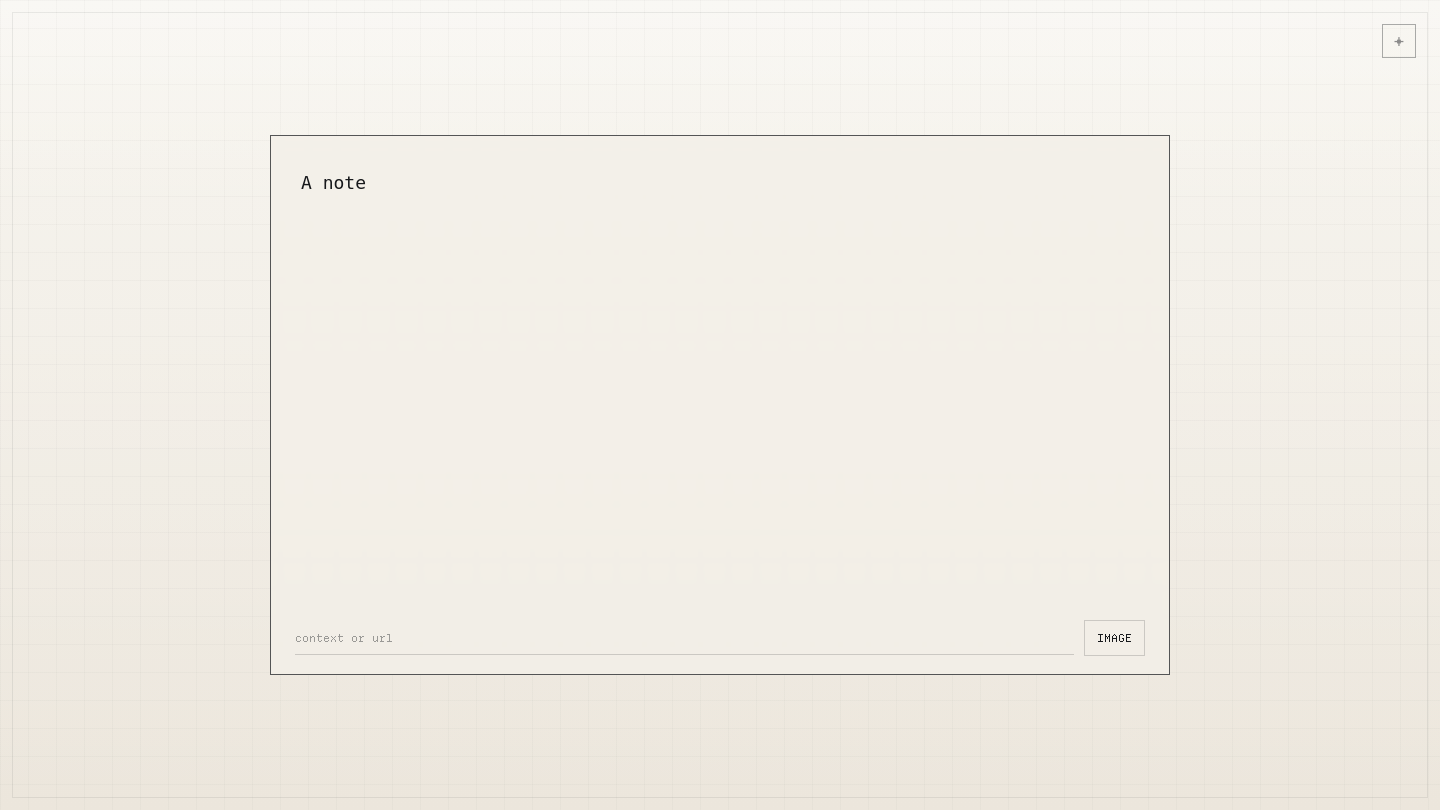
it: draft supports text, url, and image capture contexts
In the field named "Context input": (684, 638) [295,621,1074,655], type "crypto 2nd homework"
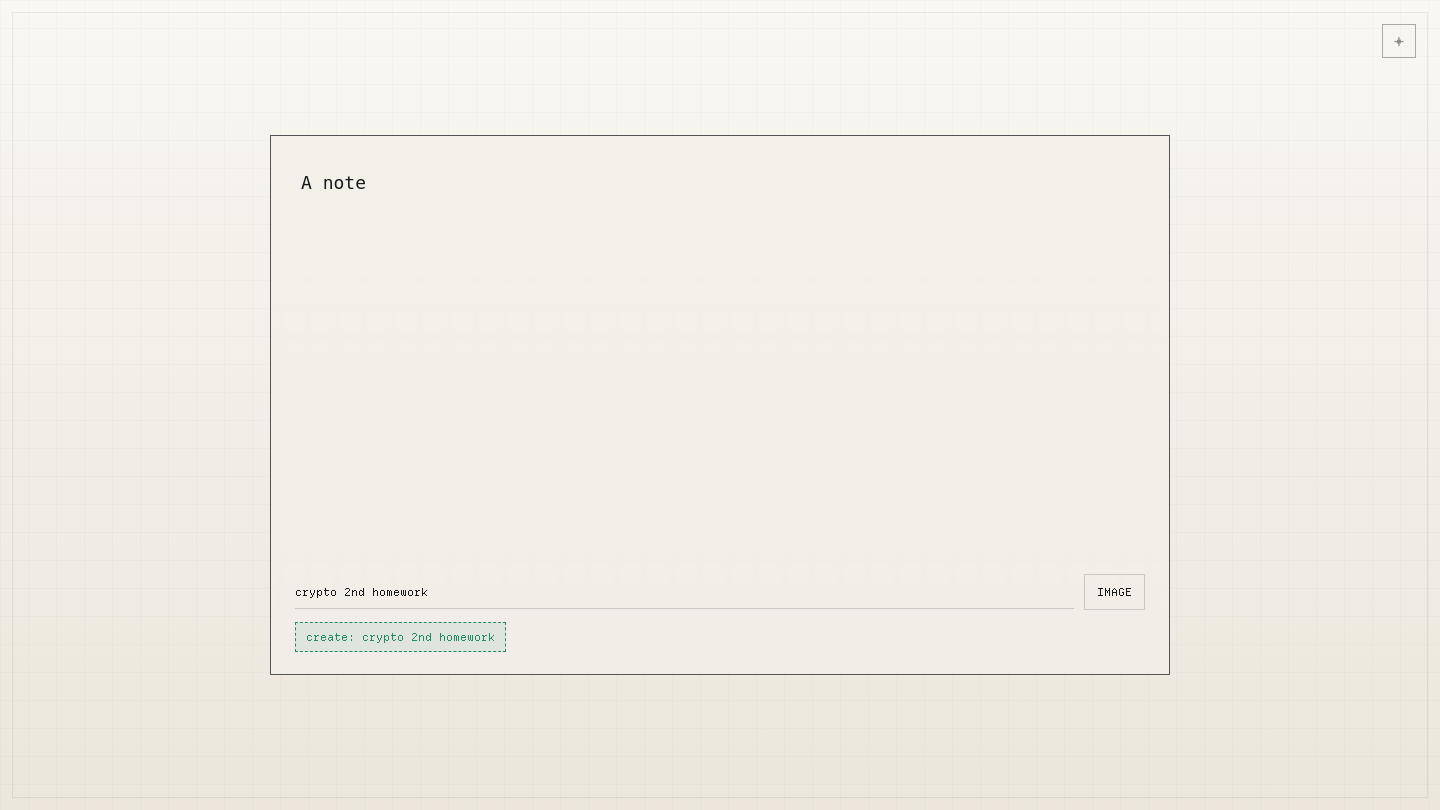
Press Enter in the field named "Context input", box [295,575,1074,609]
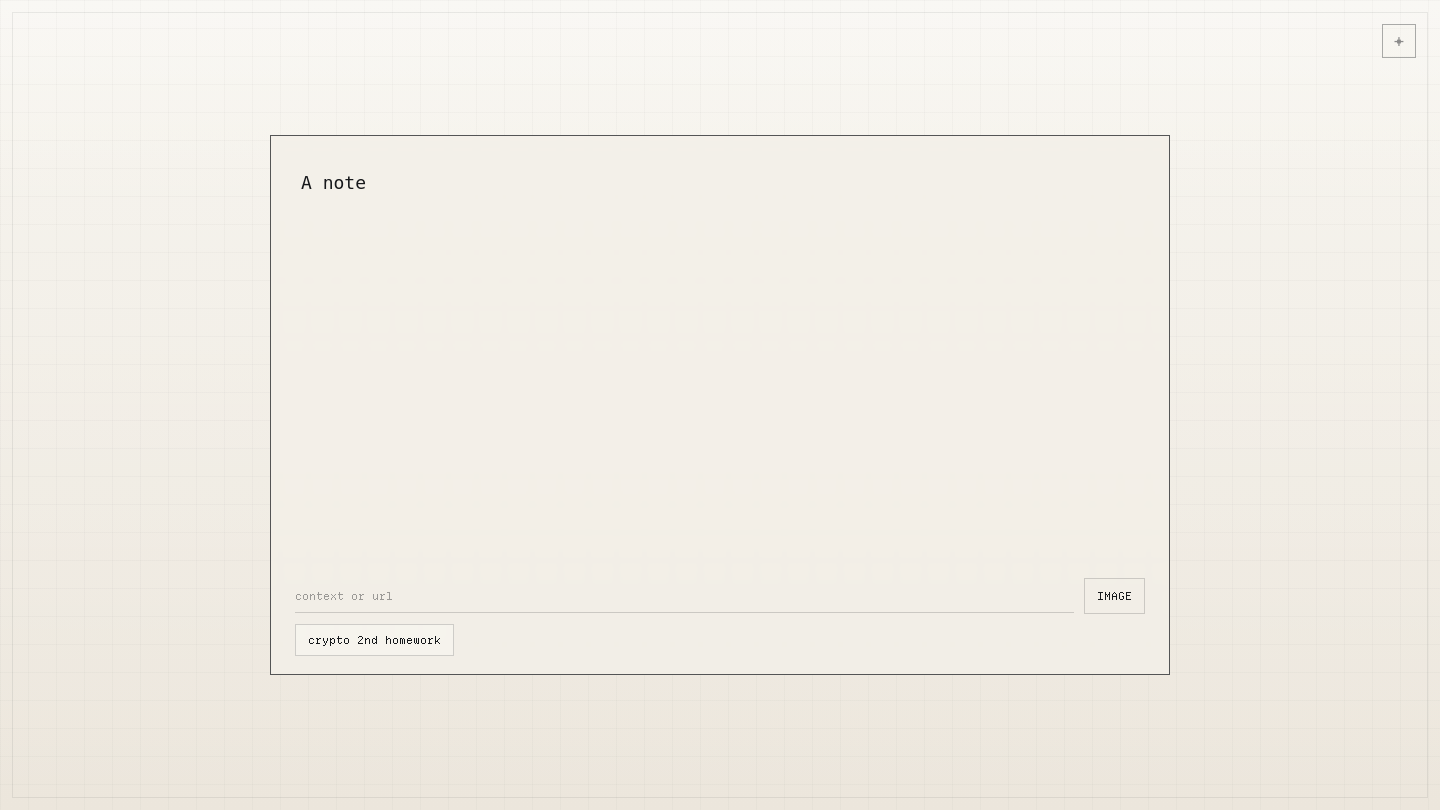
In the field named "Context input": (684, 596) [295,579,1074,613], type "https://example.com"
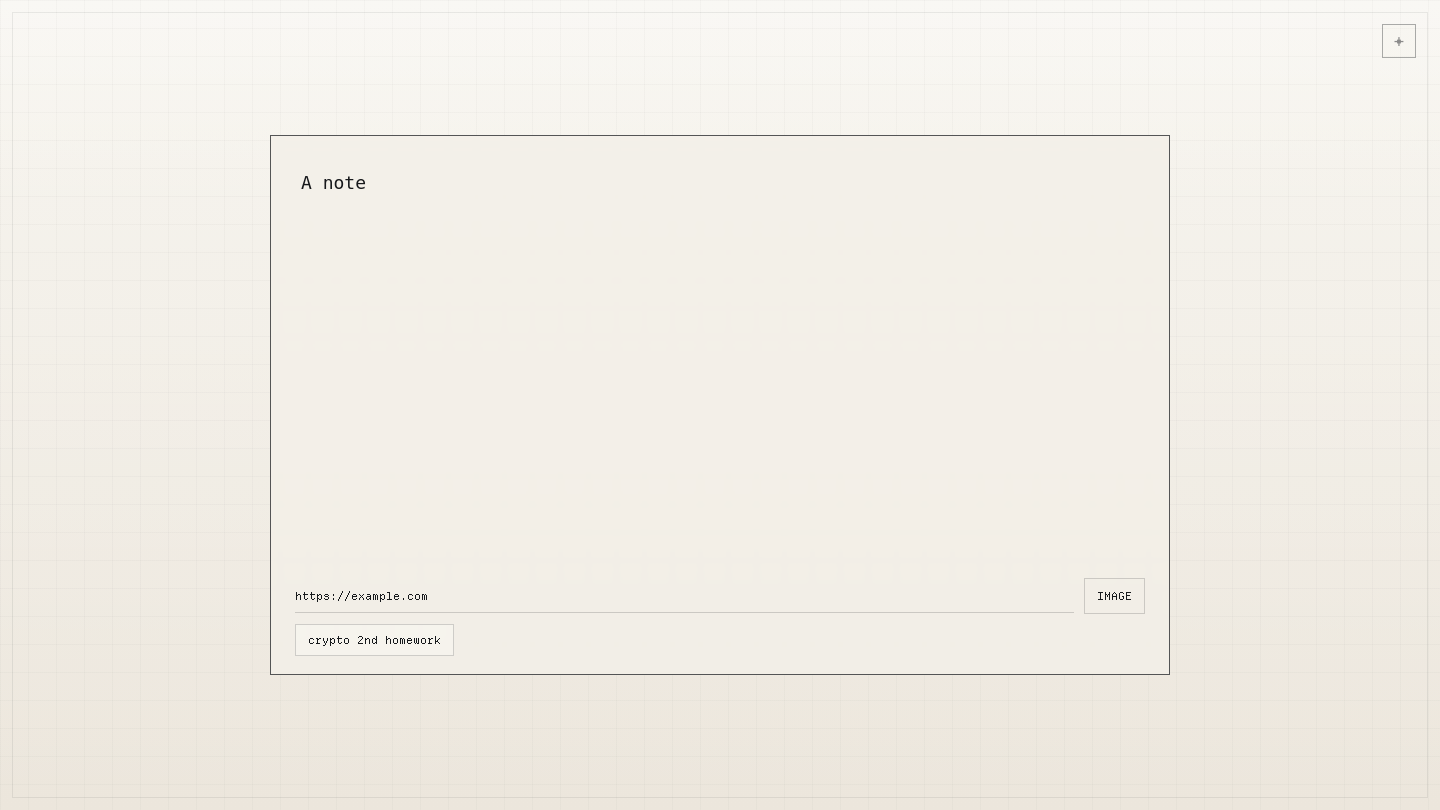
Press Enter in the field named "Context input", box [295,579,1074,613]
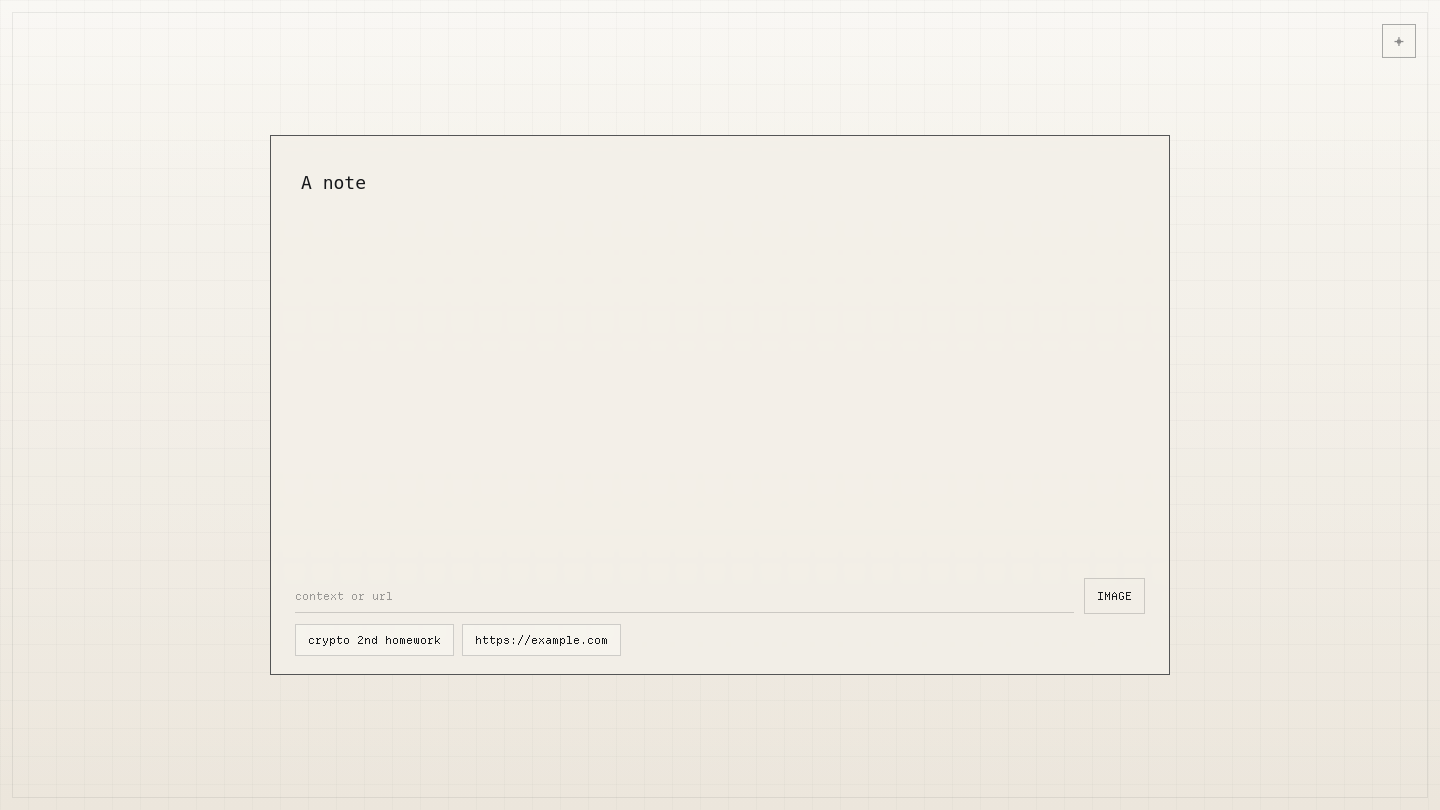
Click the button with aria-label "Add image": (1114, 596) [1084,578,1145,614]
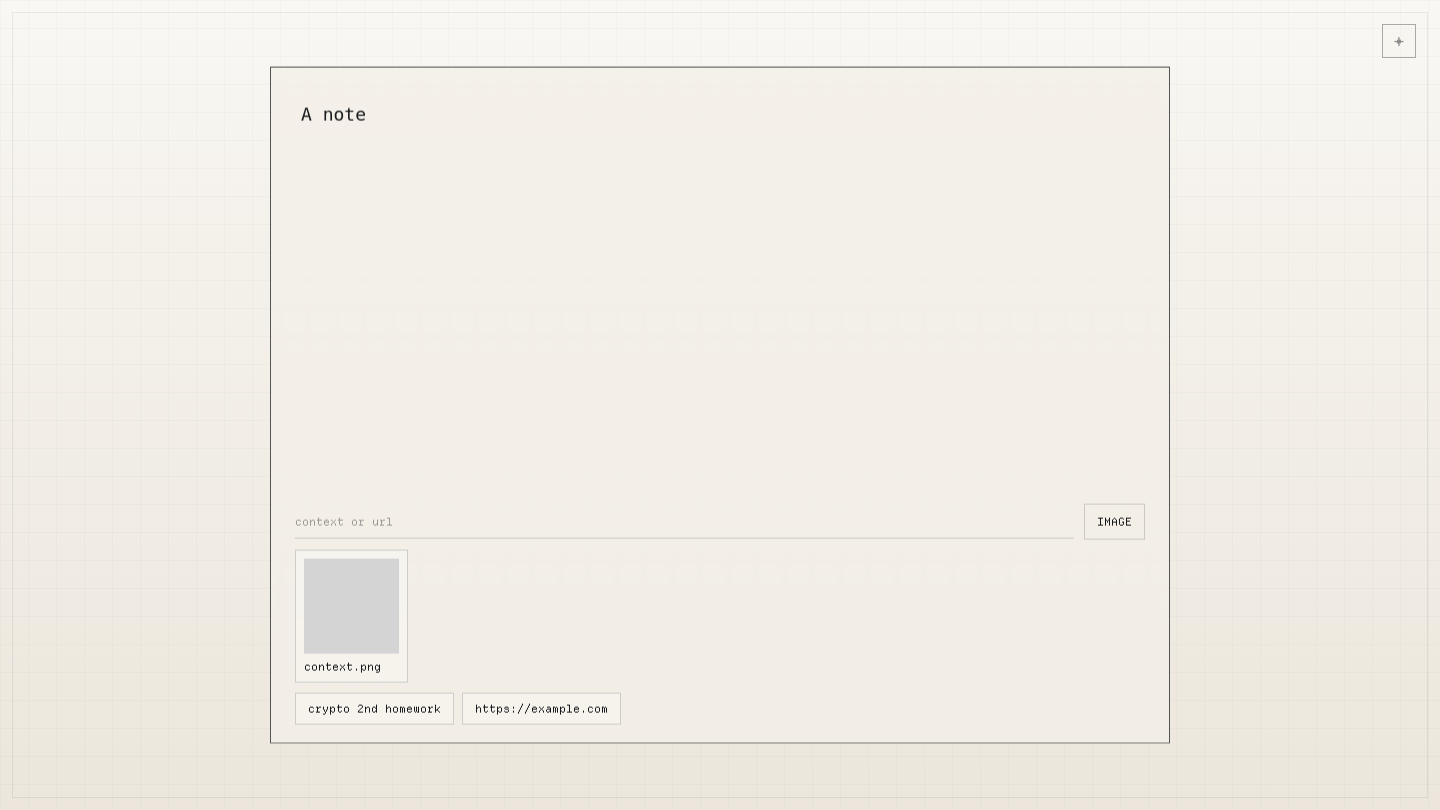
Now the button "crypto 2nd homework" is shown, box [295,692,454,724]
Now the button "https://example.com" is shown, box [462,692,621,724]
Now the text "context.png" is shown, box [304,659,381,673]
